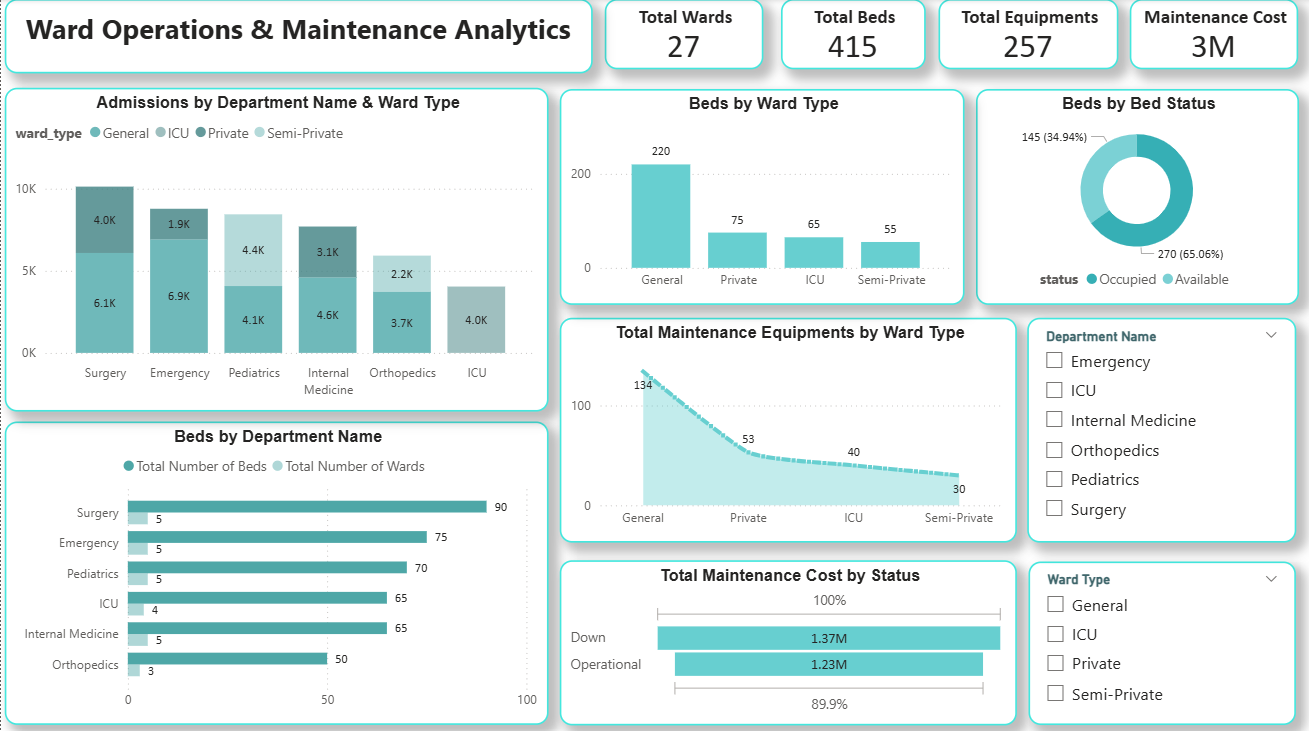

Layout of this report page (visuals, bound fields, positions):
{"tool":"powerbi","page":{"name":"Wards","canvas":[1280,720],"ordinal":4},"visuals":[{"type":"card","title":"Total Wards","fields":{"Values":["Wards.Total Number of Wards"]},"box":[590.1,0,155.1,68.6],"z":0},{"type":"textbox","box":[4.1,0,575,72.7],"z":1000},{"type":"card","title":"Total Beds","fields":{"Values":["Beds.Total Number of Beds"]},"box":[763,0,141.3,68.6],"z":2000},{"type":"clusteredBarChart","title":"Beds by Department Name","fields":{"Category":["Beds.department_name"],"Y":["Beds.Total Number of Beds","Wards.Total Number of Wards"]},"box":[3.7,413.3,531.9,297.1],"z":3000},{"type":"donutChart","title":"Beds by Bed Status","fields":{"Category":["Beds.bed_status"],"Y":["Beds.Total Number of Beds"]},"box":[953.7,87.8,315.6,211.3],"z":4000},{"type":"columnChart","title":"Admissions  by Department Name & Ward Type","fields":{"Category":["Wards.department_name"],"Y":["Admissions.Total Number of Admissions"],"Series":["Wards.ward_type"]},"box":[3.7,86.8,531.9,316.7],"z":5000},{"type":"lineChart","title":"Total Maintenance Equipments by Ward Type","fields":{"Category":["Wards.ward_type"],"Y":["Equipments Maintenance.Total Number of Maintenance Equipment"]},"box":[546.6,311.8,447.6,220.1],"z":6000},{"type":"card","title":"Total Equipments","fields":{"Values":["Equipments Maintenance.Total Number of Maintenance Equipment"]},"box":[916.6,0,175.6,68.6],"z":7000},{"type":"columnChart","title":"Beds by Ward Type","fields":{"Category":["Wards.ward_type"],"Y":["Sum(Wards.total_beds)"]},"box":[546.6,88,396.2,211.6],"z":8000},{"type":"card","title":"Maintenance Cost ","fields":{"Values":["Equipments Maintenance.Total Maintenance Cost"]},"box":[1104.6,0,164.7,68.6],"z":9000},{"type":"funnel","title":"Total Maintenance Cost by Status","fields":{"Category":["Equipments Maintenance.status"],"Y":["Equipments Maintenance.Total Maintenance Cost"]},"box":[546.6,549.1,447.6,161.4],"z":10000},{"type":"slicer","fields":{"Values":["Wards.ward_type"]},"box":[1005.2,550.3,261.7,160.2],"z":11000},{"type":"slicer","fields":{"Values":["Beds.department_name"]},"box":[1003.9,311.8,262.9,220.1],"z":12000}]}

Visuals, with their boxes in screenshot pixels (x1, y1, x2, y2), scaled from the page's 1280x720 canvas onto the 1309x731 screenshot:
"Total Wards" card: <region>603, 0, 762, 70</region>
textbox: <region>4, 0, 592, 74</region>
"Total Beds" card: <region>780, 0, 925, 70</region>
"Beds by Department Name" clusteredBarChart: <region>4, 420, 548, 721</region>
"Beds by Bed Status" donutChart: <region>975, 89, 1298, 304</region>
"Admissions  by Department Name & Ward Type" columnChart: <region>4, 88, 548, 410</region>
"Total Maintenance Equipments by Ward Type" lineChart: <region>559, 317, 1017, 540</region>
"Total Equipments" card: <region>937, 0, 1117, 70</region>
"Beds by Ward Type" columnChart: <region>559, 89, 964, 304</region>
"Maintenance Cost " card: <region>1130, 0, 1298, 70</region>
"Total Maintenance Cost by Status" funnel: <region>559, 557, 1017, 721</region>
slicer - Wards.ward_type: <region>1028, 559, 1296, 721</region>
slicer - Beds.department_name: <region>1027, 317, 1296, 540</region>
